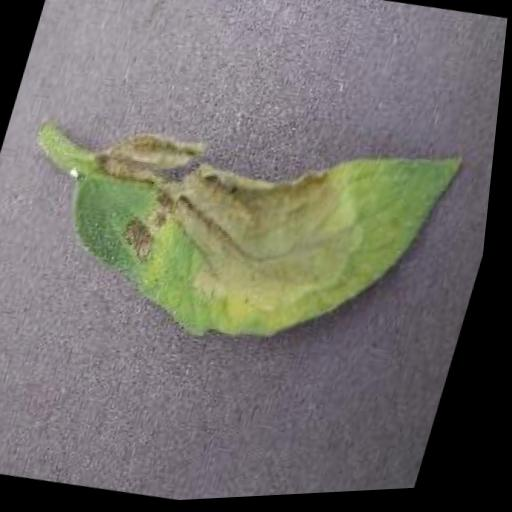Late Blight: (35, 81, 477, 385)
